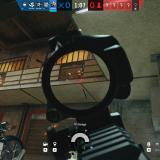Character: (35, 58, 48, 67), (77, 74, 81, 78)
Head: (77, 74, 81, 77)
